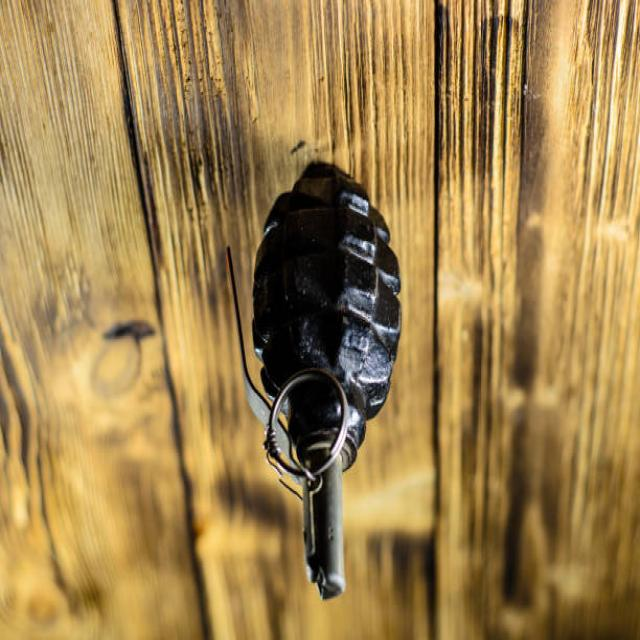grenade: (215, 156, 405, 605)
